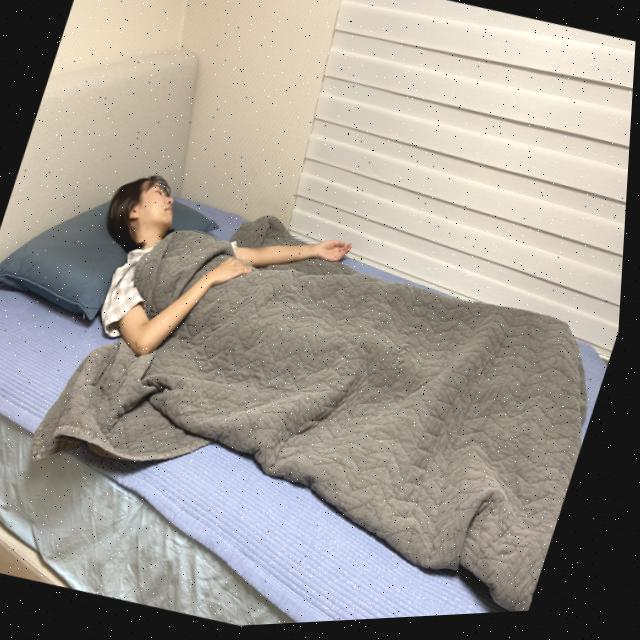sleeping-person: (4, 128, 633, 639)
